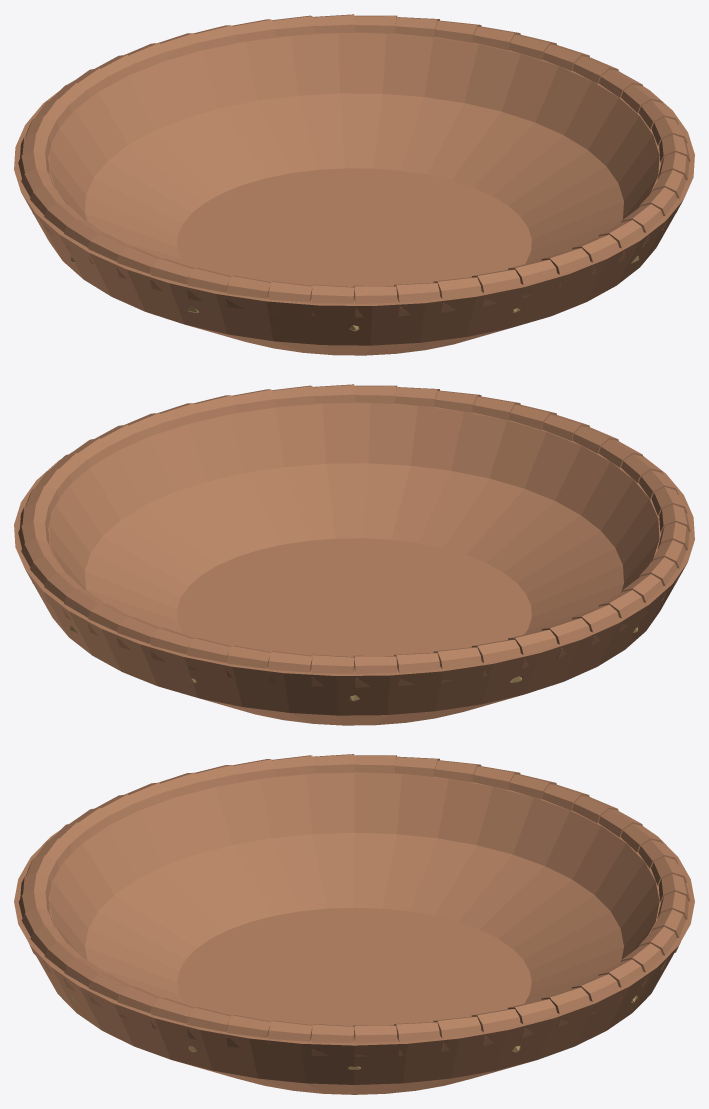
3 renders of one model, top to bottom at view 1: azimuth 30°, elevation 25°; view 2: azimuth 150°, elevation 25°; view 3: azimuth 270°, elevation 25°, orthographic.
Parts seen in each view (by area): view 1: GF-195 Low companion feeding and water dish batched; view 2: GF-195 Low companion feeding and water dish batched; view 3: GF-195 Low companion feeding and water dish batched.
Part boxes in pixels (x1=…): GF-195 Low companion feeding and water dish batched: x1=14, y1=14, x2=694, y2=355; GF-195 Low companion feeding and water dish batched: x1=14, y1=384, x2=694, y2=725; GF-195 Low companion feeding and water dish batched: x1=14, y1=754, x2=694, y2=1094.
Size of the model in its own units: 0.48 by 0.094 by 0.48.
